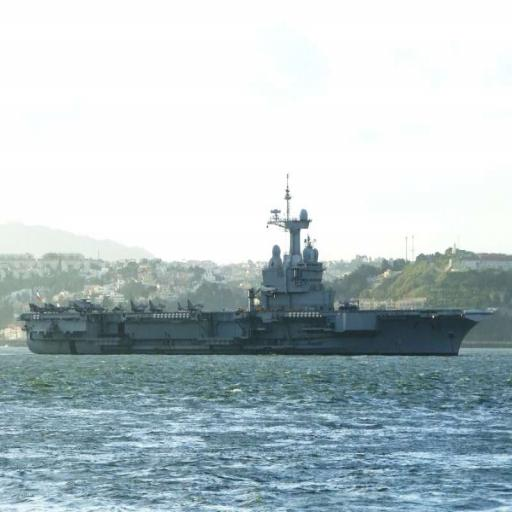Portanaves: (22, 170, 498, 359)
